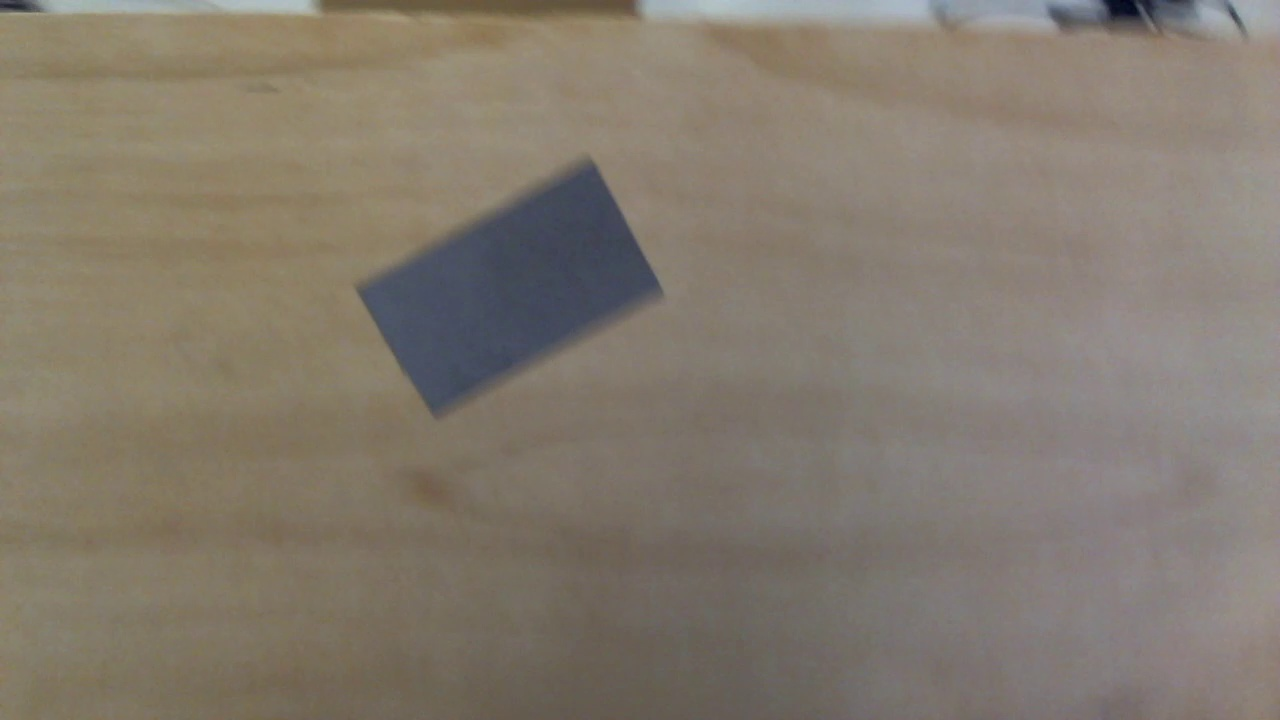Tape: (351, 165, 667, 418)
